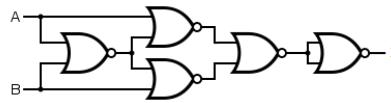nor: (141, 56, 206, 102), (56, 29, 119, 76), (143, 4, 205, 51), (228, 30, 290, 77), (312, 29, 374, 76)
